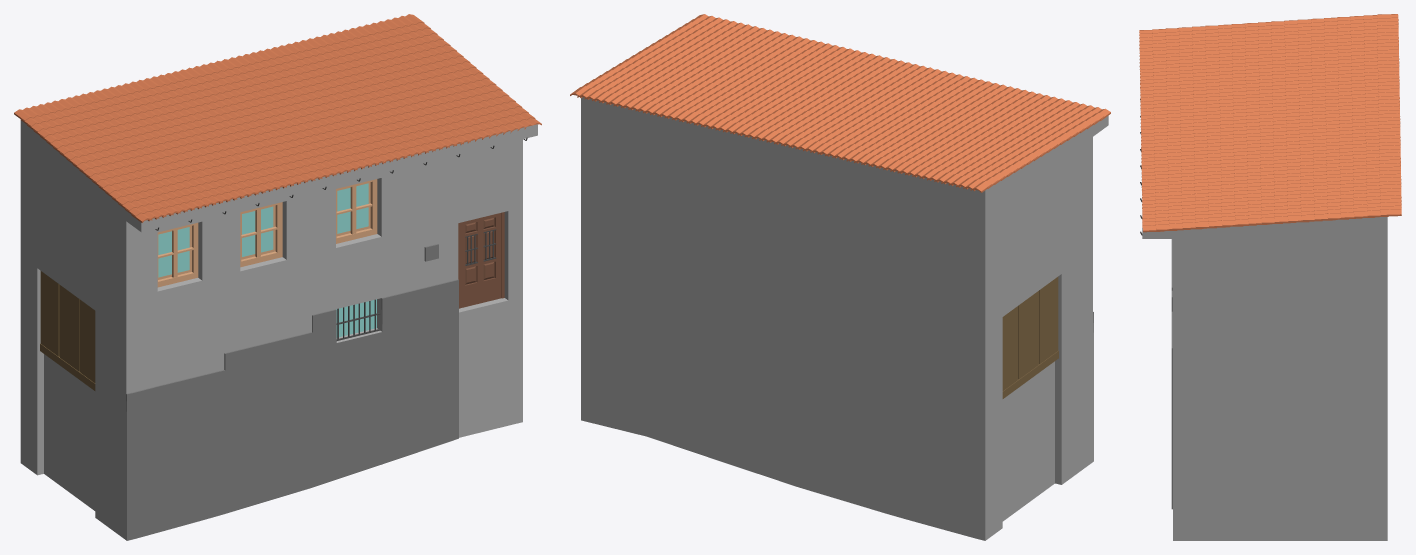
File: 23_Casa_Daniel_Garcia.fbx
The picture shows the model from 3 angles, left to right: view 1: azimuth 30°, elevation 25°; view 2: azimuth 150°, elevation 25°; view 3: azimuth 270°, elevation 25°; orthographic projection.
Parts seen in each view (by area): view 1: Fachada.004, Tejas.001, Ventana1, PuertaGaraje, Puerta.002, Reja1; view 2: Fachada.004, Tejas.001, PuertaGaraje; view 3: Fachada.004, Tejas.001.
Boxes of the visible parts, <box> form: Fachada.004: <box>20,36,537,540</box>; Tejas.001: <box>14,14,541,222</box>; Ventana1: <box>157,179,377,287</box>; PuertaGaraje: <box>40,271,95,390</box>; Puerta.002: <box>458,212,504,308</box>; Reja1: <box>336,299,380,340</box>; Fachada.004: <box>581,16,1108,540</box>; Tejas.001: <box>570,14,1110,192</box>; PuertaGaraje: <box>1002,276,1058,398</box>; Fachada.004: <box>1142,197,1387,540</box>; Tejas.001: <box>1139,14,1401,232</box>.
Bounding box in the file's own units: 1244 × 1031 × 694.
